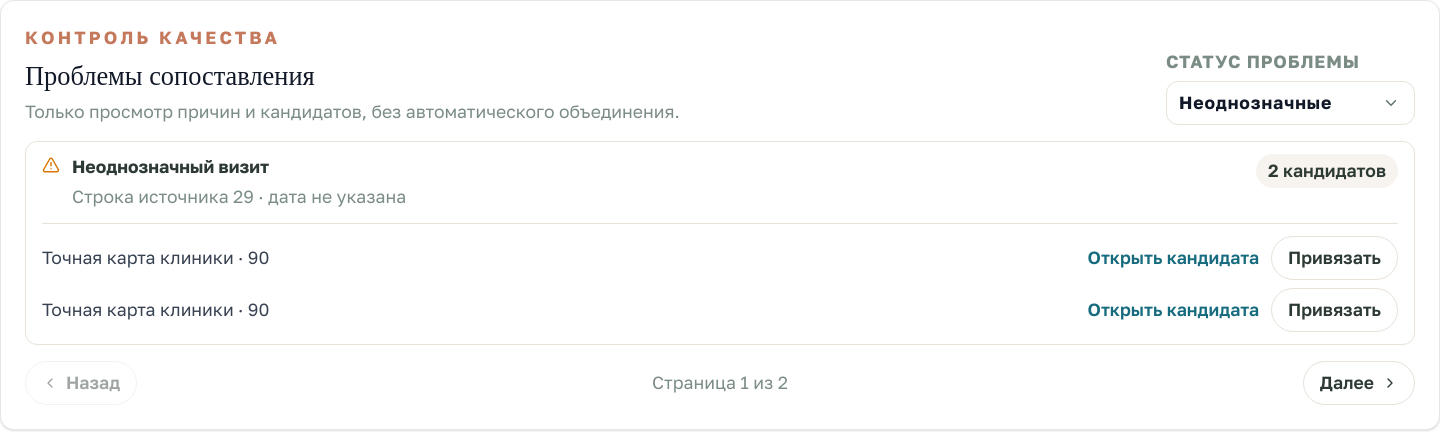
Test: PatientHistoryIssues manual linking › posts the chosen candidate and reloads the queue
Click the 2nd button "Привязать". click: x=1334, y=310
box: [1271, 288, 1398, 332]
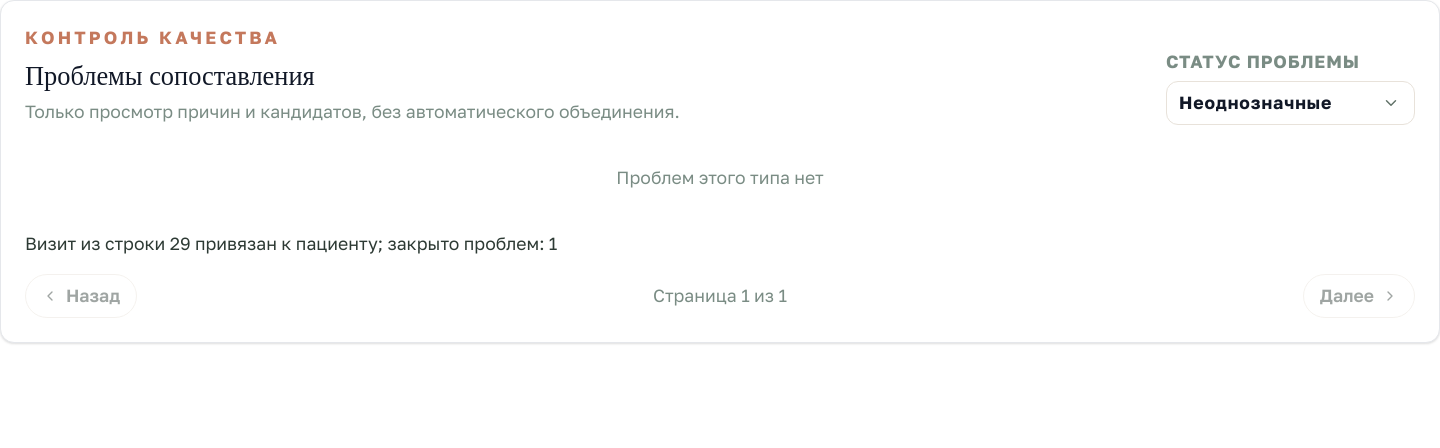
Now the message "Визит из строки 29 привязан к пациенту; закрыто проблем: 1" is shown, box [25, 233, 557, 254]
